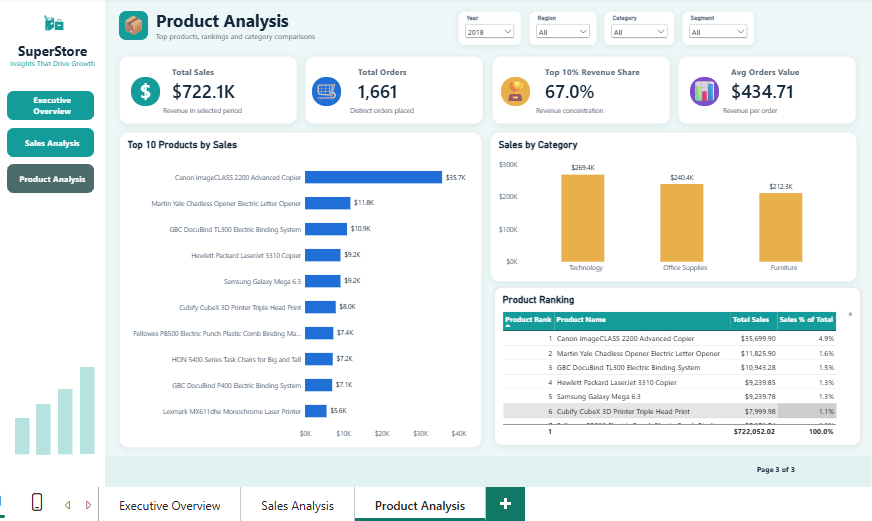

The page's visual inventory and layout, read from the dashboard file:
{"tool":"powerbi","page":{"name":"Product Analysis","canvas":[1920,1080],"ordinal":2},"visuals":[{"type":"textbox","box":[0,0,232,1080],"z":0},{"type":"textbox","box":[262,30,64,64],"z":1000},{"type":"textbox","box":[344,26,700,50],"z":2000},{"type":"textbox","box":[344,74,700,30],"z":3000},{"type":"slicer","fields":{"Values":["DimDate.Year"]},"box":[1010,30,140,76],"z":4000},{"type":"slicer","fields":{"Values":["DimGeography.Region"]},"box":[1166,30,150,76],"z":5000},{"type":"slicer","fields":{"Values":["DimProducts.Category"]},"box":[1332,30,156,76],"z":6000},{"type":"slicer","fields":{"Values":["DimCustomers.Segment"]},"box":[1504,30,160,76],"z":7000},{"type":"textbox","box":[232,1012,1688,68],"z":8000},{"type":"textbox","box":[1668,1030,220,32],"z":9000},{"type":"cardVisual","fields":{"Data":["_Measures.Total Sales"]},"box":[262,130,393,150],"z":10000},{"type":"textbox","box":[288,176,64,64],"z":11000},{"type":"textbox","box":[360,240,287,28],"z":12000},{"type":"cardVisual","fields":{"Data":["_Measures.Orders Count(Display)"]},"box":[673,130,393,150],"z":13000},{"type":"textbox","box":[688,176,64,64],"z":14000},{"type":"textbox","box":[771,240,287,28],"z":15000},{"type":"cardVisual","fields":{"Data":["_Measures.Top 10% Revenue Share"]},"box":[1084,130,393,150],"z":16000},{"type":"textbox","box":[1104,176,64,64],"z":17000},{"type":"textbox","box":[1182,240,287,28],"z":18000},{"type":"cardVisual","fields":{"Data":["_Measures.Avg Orders Value"]},"box":[1495,130,393,150],"z":19000},{"type":"textbox","box":[1520,176,64,64],"z":20000},{"type":"textbox","box":[1593,240,287,28],"z":21000},{"type":"barChart","title":"Top 10 Products by Sales","fields":{"Category":["DimProducts.Product Name"],"Y":["_Measures.Total Sales"]},"box":[262,298,800,696],"z":22000},{"type":"clusteredColumnChart","title":"Sales by Category","fields":{"Category":["DimProducts.Category"],"Y":["_Measures.Total Sales"]},"box":[1079,298,809,330],"z":23000},{"type":"tableEx","title":"Product Ranking","fields":{"Values":["_Measures.Product Rank","DimProducts.Product Name","_Measures.Total Sales","_Measures.Sales % of Total"]},"box":[1088,640,809,349],"z":24000},{"type":"actionButton","box":[16,368,192,64],"z":25000},{"type":"actionButton","box":[16,288,192,64],"z":26000},{"type":"actionButton","box":[16,208,192,64],"z":27000},{"type":"textbox","box":[0,134,232,26],"z":28000},{"type":"textbox","box":[0,96,232,40],"z":29000},{"type":"textbox","box":[80,16,80,80],"z":30000},{"type":"shape","box":[32,928,32,80],"z":31000},{"type":"shape","box":[80,896,32,112],"z":32000},{"type":"shape","box":[128,864,32,144],"z":33000},{"type":"shape","box":[176,816,32,192],"z":34000}]}

Visuals, with their boxes on the page's 1920x1080 design canvas (x1, y1, x2, y2). These are canvas units, not pixel positions in the 872x521 screenshot, which may show the page scaled, cropped or inside an application window:
textbox: <region>0, 0, 232, 1080</region>
textbox: <region>262, 30, 326, 94</region>
textbox: <region>344, 26, 1044, 76</region>
textbox: <region>344, 74, 1044, 104</region>
slicer - DimDate.Year: <region>1010, 30, 1150, 106</region>
slicer - DimGeography.Region: <region>1166, 30, 1316, 106</region>
slicer - DimProducts.Category: <region>1332, 30, 1488, 106</region>
slicer - DimCustomers.Segment: <region>1504, 30, 1664, 106</region>
textbox: <region>232, 1012, 1920, 1080</region>
textbox: <region>1668, 1030, 1888, 1062</region>
cardVisual - _Measures.Total Sales: <region>262, 130, 655, 280</region>
textbox: <region>288, 176, 352, 240</region>
textbox: <region>360, 240, 647, 268</region>
cardVisual - _Measures.Orders Count(Display): <region>673, 130, 1066, 280</region>
textbox: <region>688, 176, 752, 240</region>
textbox: <region>771, 240, 1058, 268</region>
cardVisual - _Measures.Top 10% Revenue Share: <region>1084, 130, 1477, 280</region>
textbox: <region>1104, 176, 1168, 240</region>
textbox: <region>1182, 240, 1469, 268</region>
cardVisual - _Measures.Avg Orders Value: <region>1495, 130, 1888, 280</region>
textbox: <region>1520, 176, 1584, 240</region>
textbox: <region>1593, 240, 1880, 268</region>
"Top 10 Products by Sales" barChart: <region>262, 298, 1062, 994</region>
"Sales by Category" clusteredColumnChart: <region>1079, 298, 1888, 628</region>
"Product Ranking" tableEx: <region>1088, 640, 1897, 989</region>
actionButton: <region>16, 368, 208, 432</region>
actionButton: <region>16, 288, 208, 352</region>
actionButton: <region>16, 208, 208, 272</region>
textbox: <region>0, 134, 232, 160</region>
textbox: <region>0, 96, 232, 136</region>
textbox: <region>80, 16, 160, 96</region>
shape: <region>32, 928, 64, 1008</region>
shape: <region>80, 896, 112, 1008</region>
shape: <region>128, 864, 160, 1008</region>
shape: <region>176, 816, 208, 1008</region>
